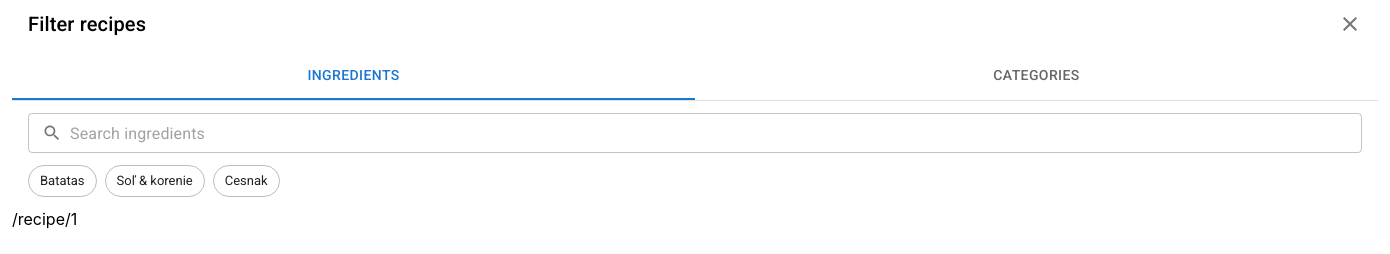
it: RecipeMenu › narrows the ingredients to the search, whatever the case
Step 1. Type "SOĽ" into the field labelled "Search ingredients" → (716, 133), box [70,113,1362,153]
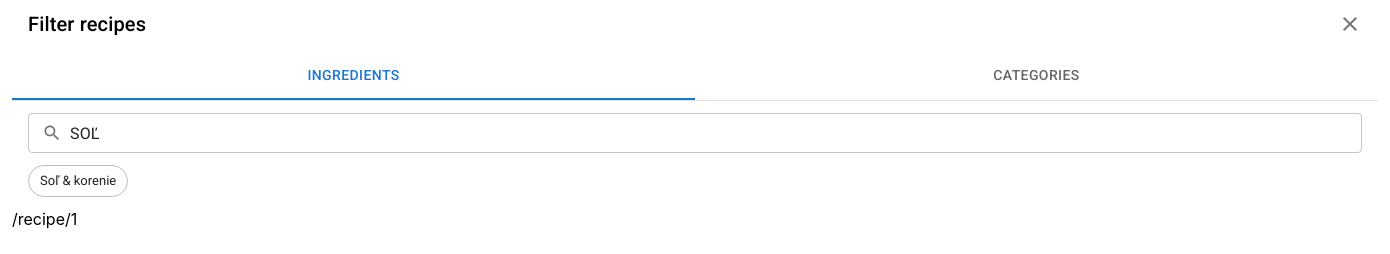
Step 2. Replace the text in the field named "Search ingredients" with "xyz" → (716, 133), box [70,113,1362,153]
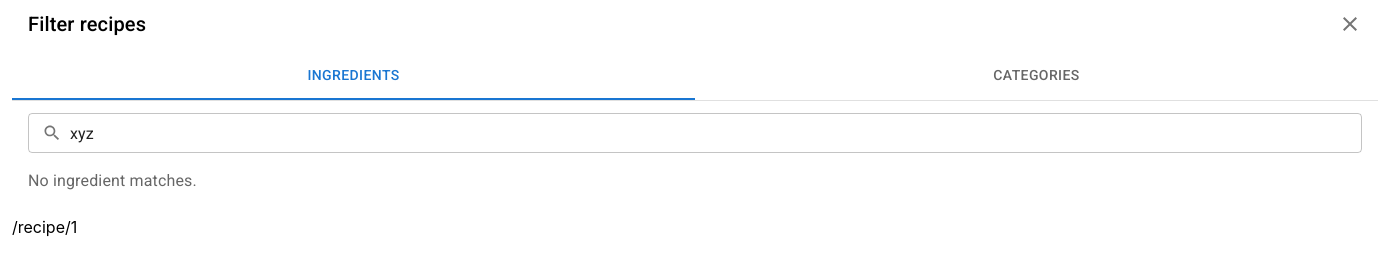
Result: the text "No ingredient matches." is shown at [28,171,197,190]
